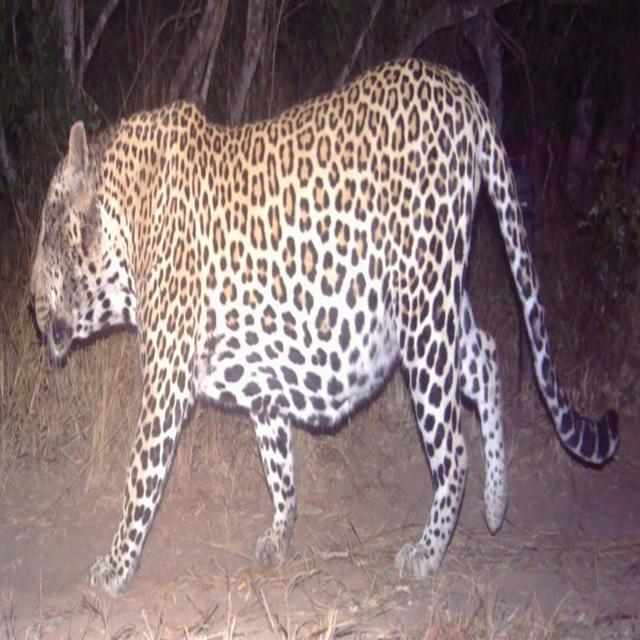Leopard: (27, 74, 640, 631)
